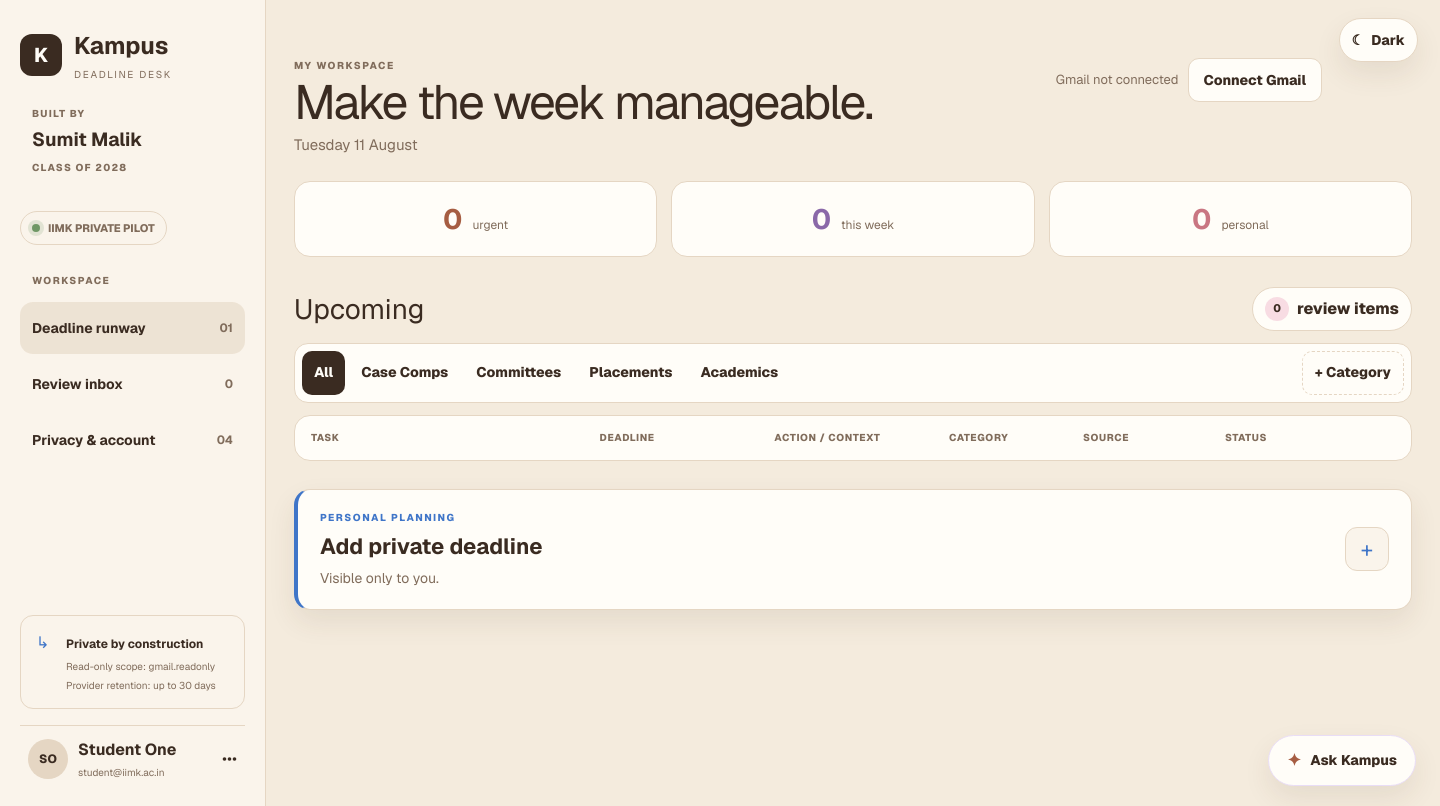
it: dashboard local actions › adds a private deadline directly to the current dashboard
Click the button with aria-label "add a private deadline". click: {"x": 388, "y": 517}
box: [298,490,1411,608]
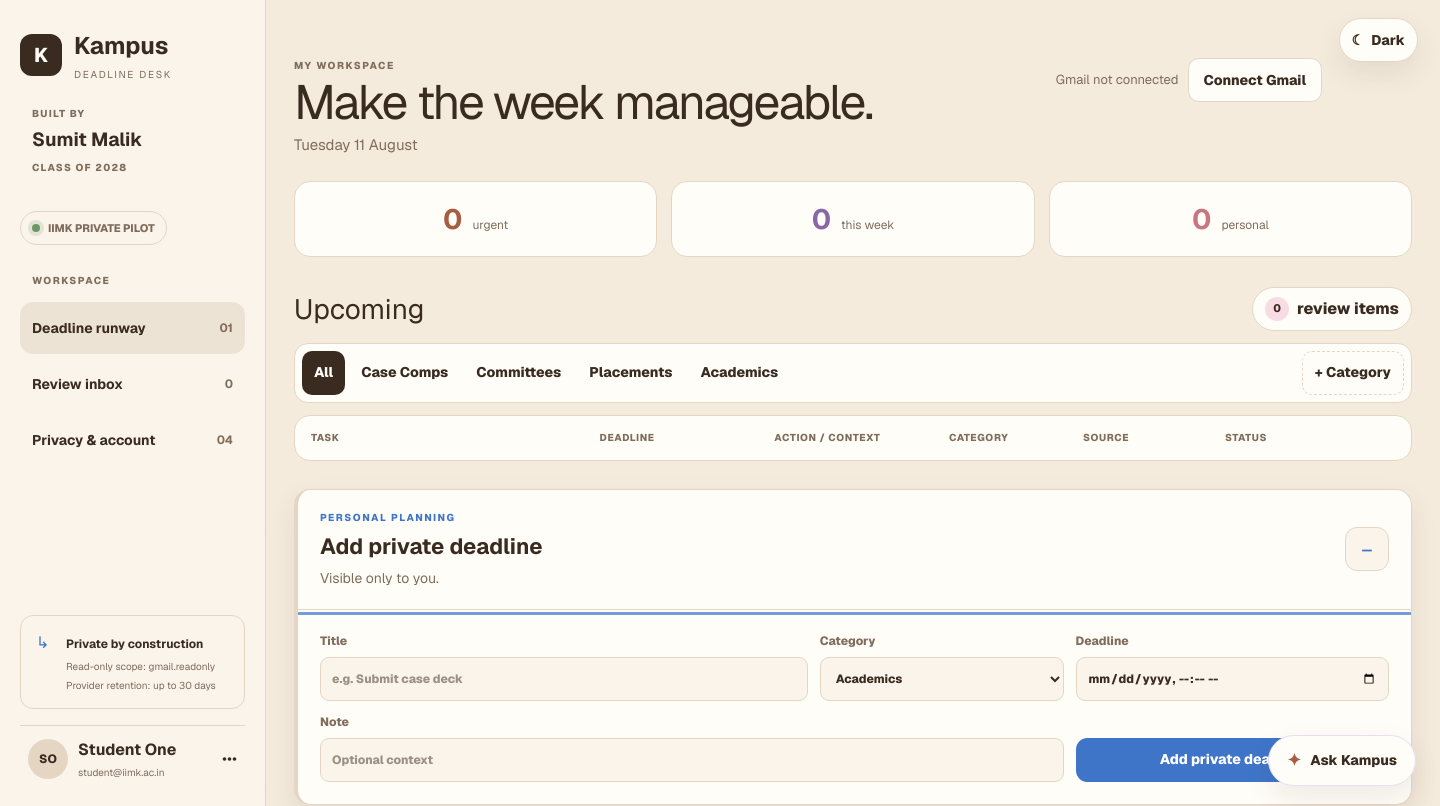
Type "New task" into the field labelled "Title". click: {"x": 564, "y": 678}
box: [320,656,808,700]
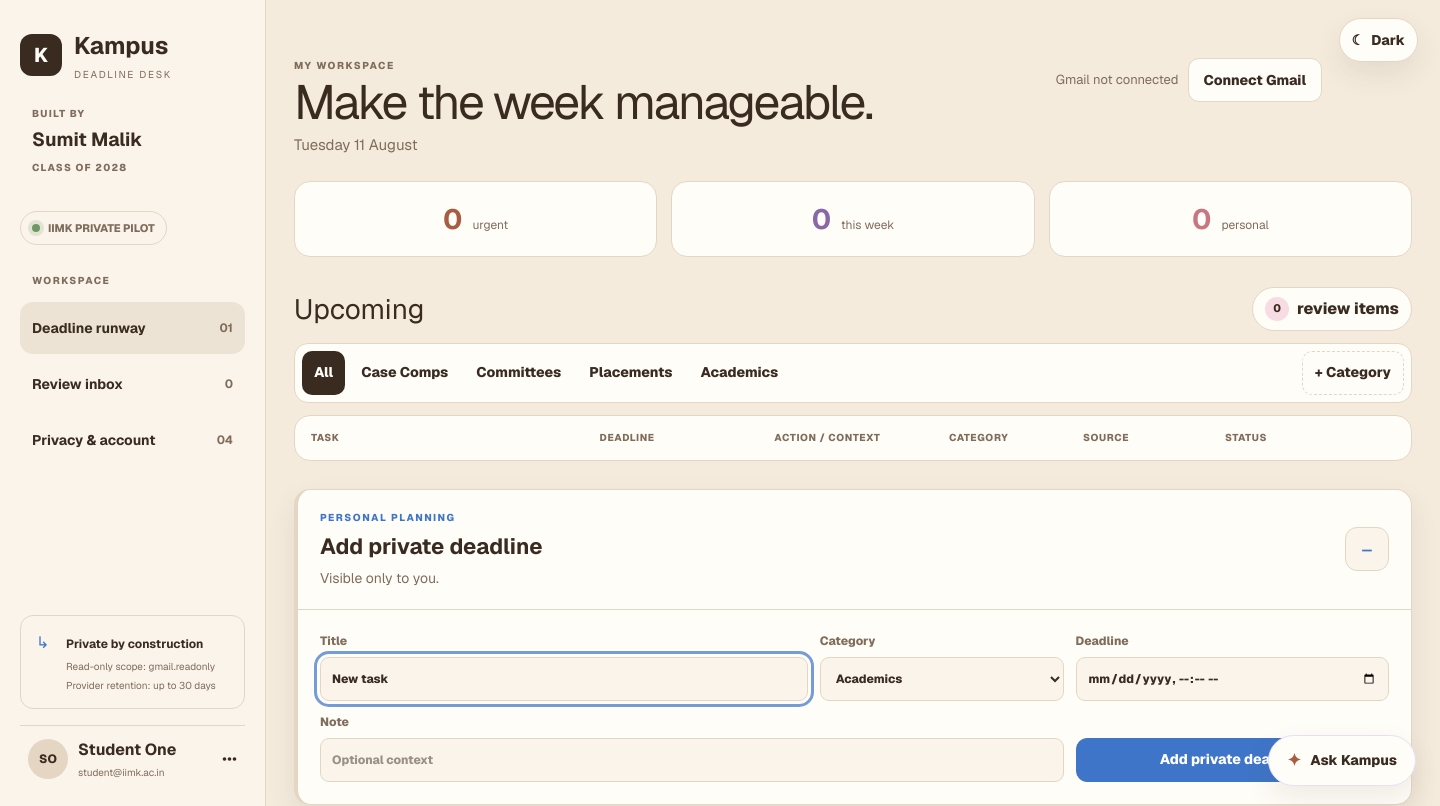
Type "New detail" into the field labelled "Note". click: {"x": 692, "y": 760}
box: [320,738,1064,782]
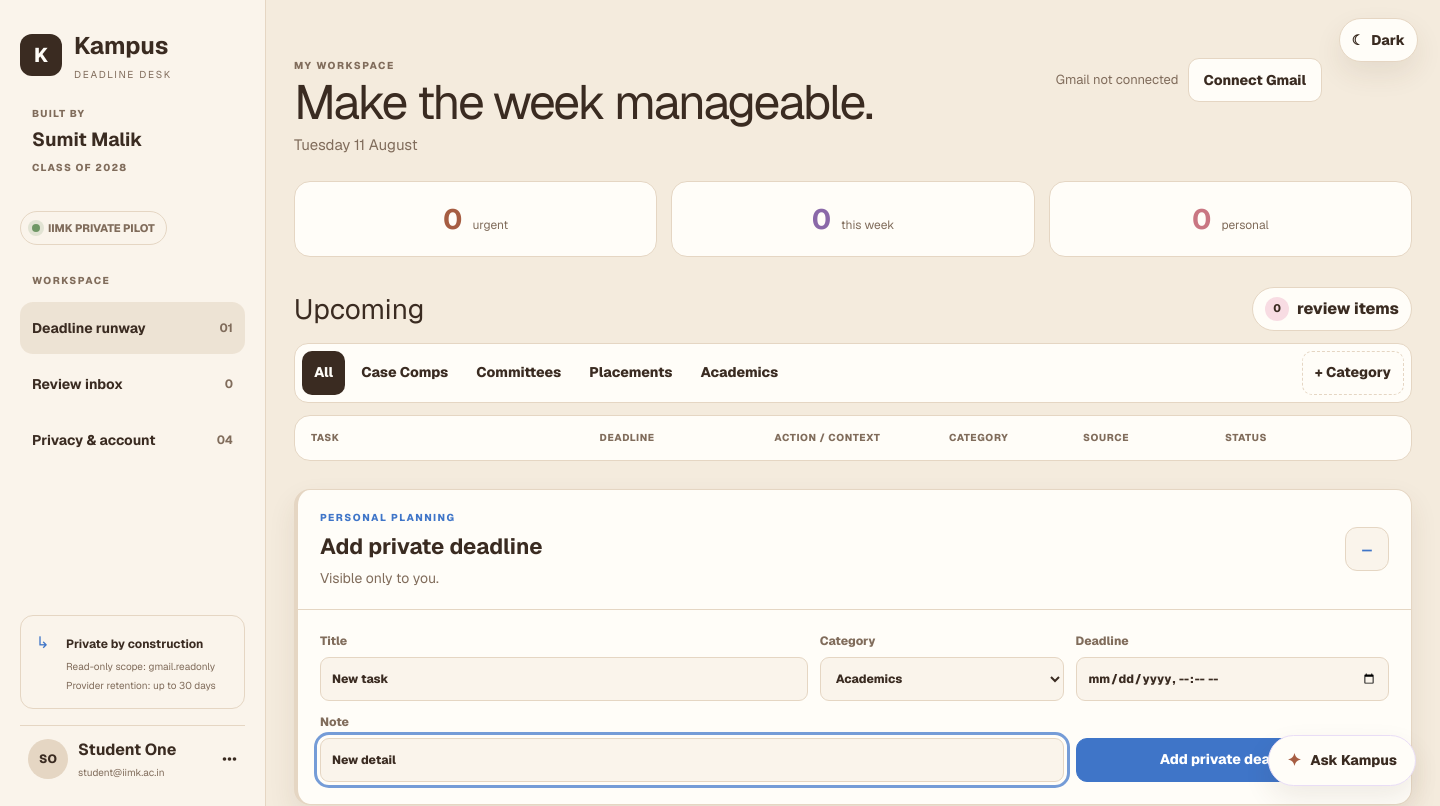
Type "2026-08-14T15:30" into the field labelled "Deadline". click: {"x": 1232, "y": 678}
box: [1076,656,1389,700]
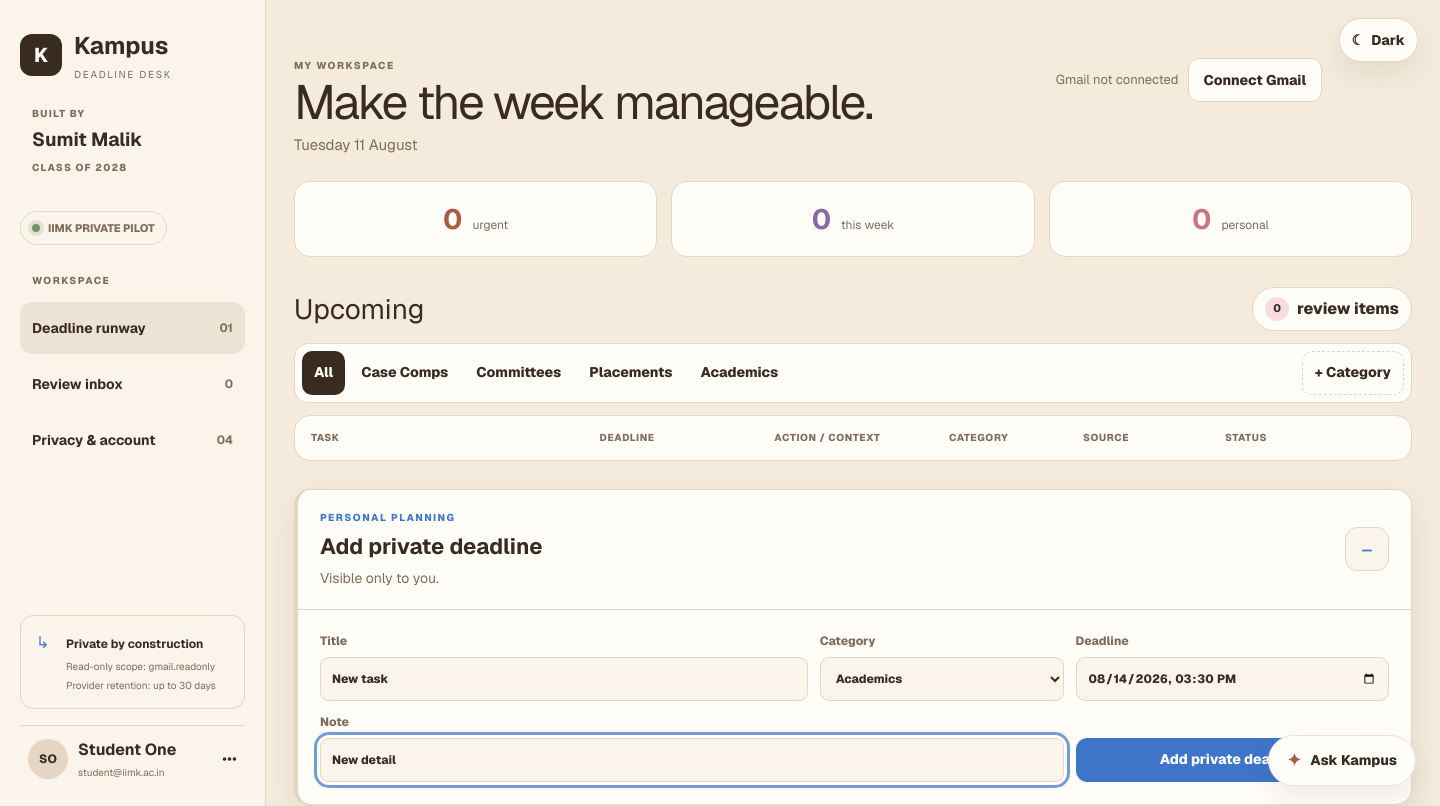
Click the button "Add private deadline". click: {"x": 1232, "y": 760}
box: [1076,738,1389,782]
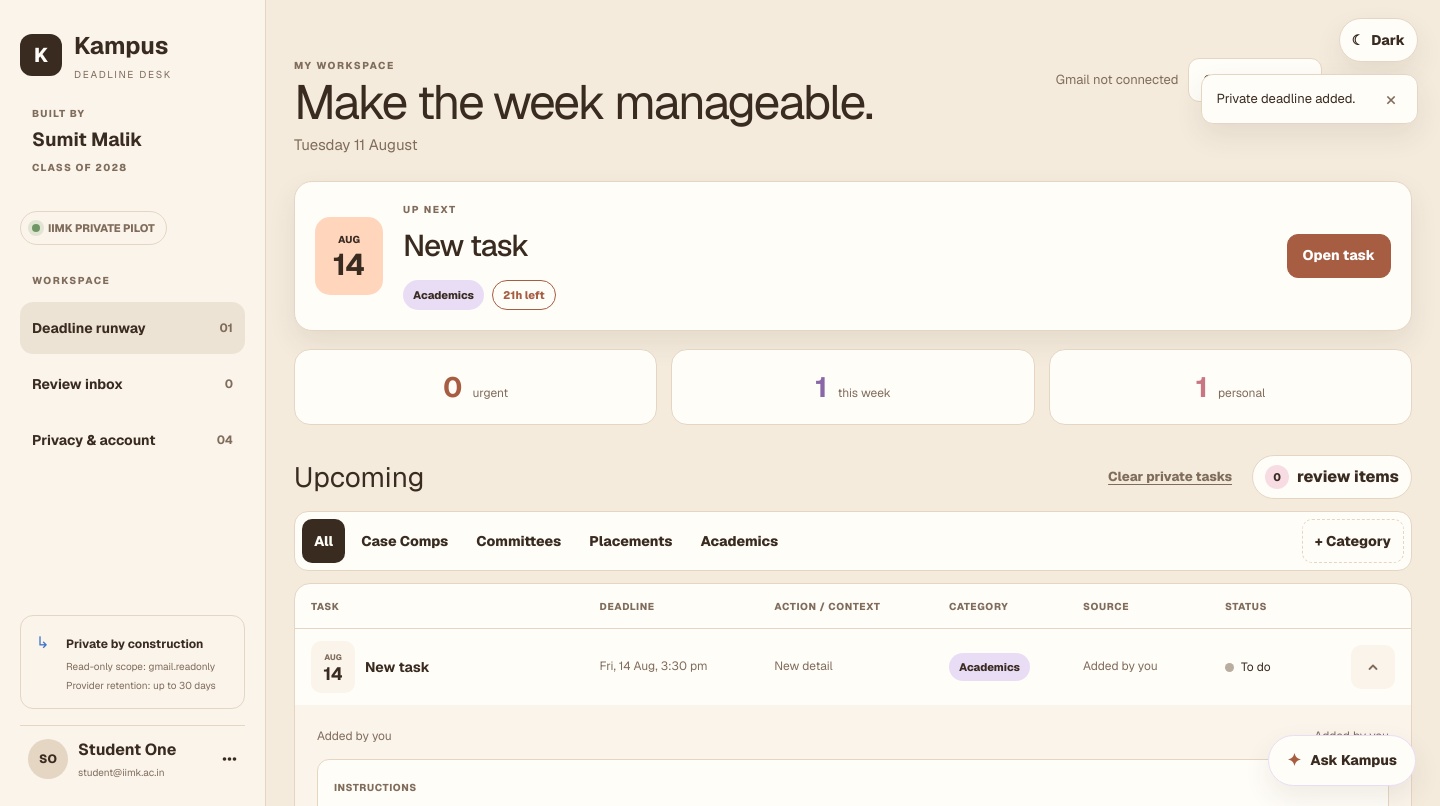
Expected: the heading "New task" is shown, [403,226,528,264]
Expected: the message shows "Private deadline added", [1216,90,1355,107]
